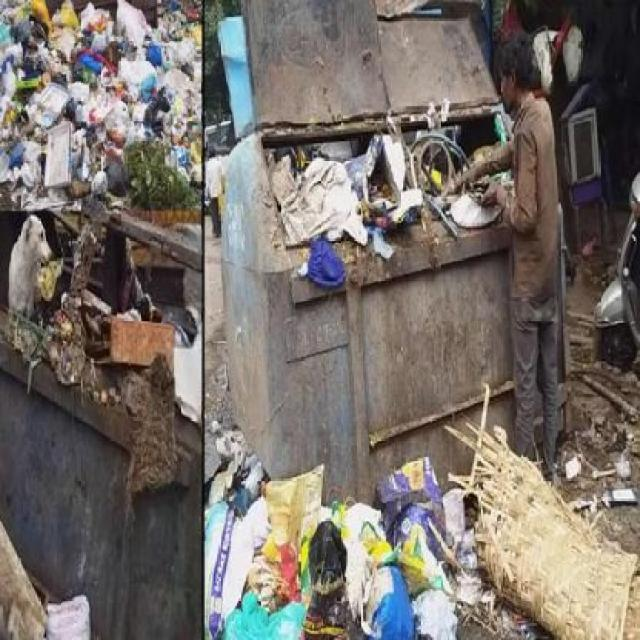garbage: (207, 0, 464, 638), (1, 0, 201, 638), (463, 403, 640, 640)
